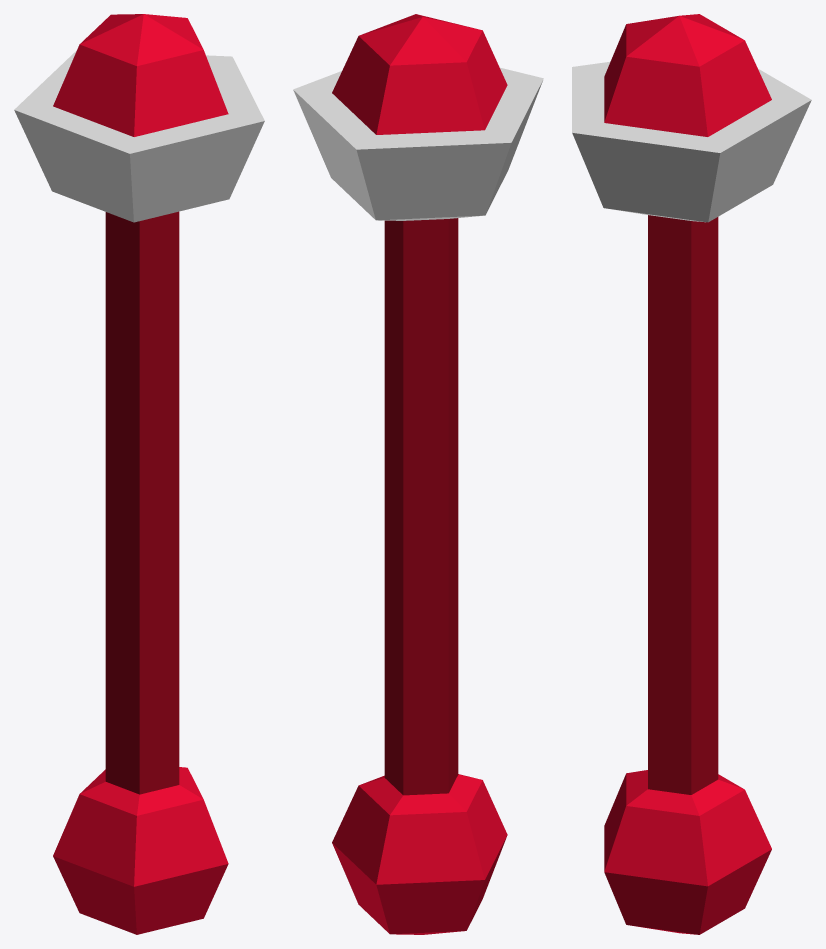
Rendered from staff.fbx.
The picture shows the model from 3 angles, left to right: view 1: azimuth 30°, elevation 25°; view 2: azimuth 150°, elevation 25°; view 3: azimuth 270°, elevation 25°; orthographic projection.
Parts seen in each view (by area): view 1: hilt_staff, orb.001, base_staff, orb; view 2: hilt_staff, base_staff, orb.001, orb; view 3: hilt_staff, base_staff, orb.001, orb.
Boxes of the visible parts, bbox=[...] form: hilt_staff: bbox=[105, 211, 179, 794]; orb.001: bbox=[14, 50, 264, 222]; base_staff: bbox=[53, 767, 228, 934]; orb: bbox=[53, 14, 228, 136]; hilt_staff: bbox=[384, 218, 458, 795]; base_staff: bbox=[332, 774, 507, 934]; orb.001: bbox=[293, 67, 543, 220]; orb: bbox=[332, 14, 507, 134]; hilt_staff: bbox=[648, 215, 718, 794]; base_staff: bbox=[604, 770, 771, 934]; orb.001: bbox=[572, 62, 811, 222]; orb: bbox=[604, 14, 771, 136].
Size of the model in its own units: 90.3 by 363 by 85.88.
